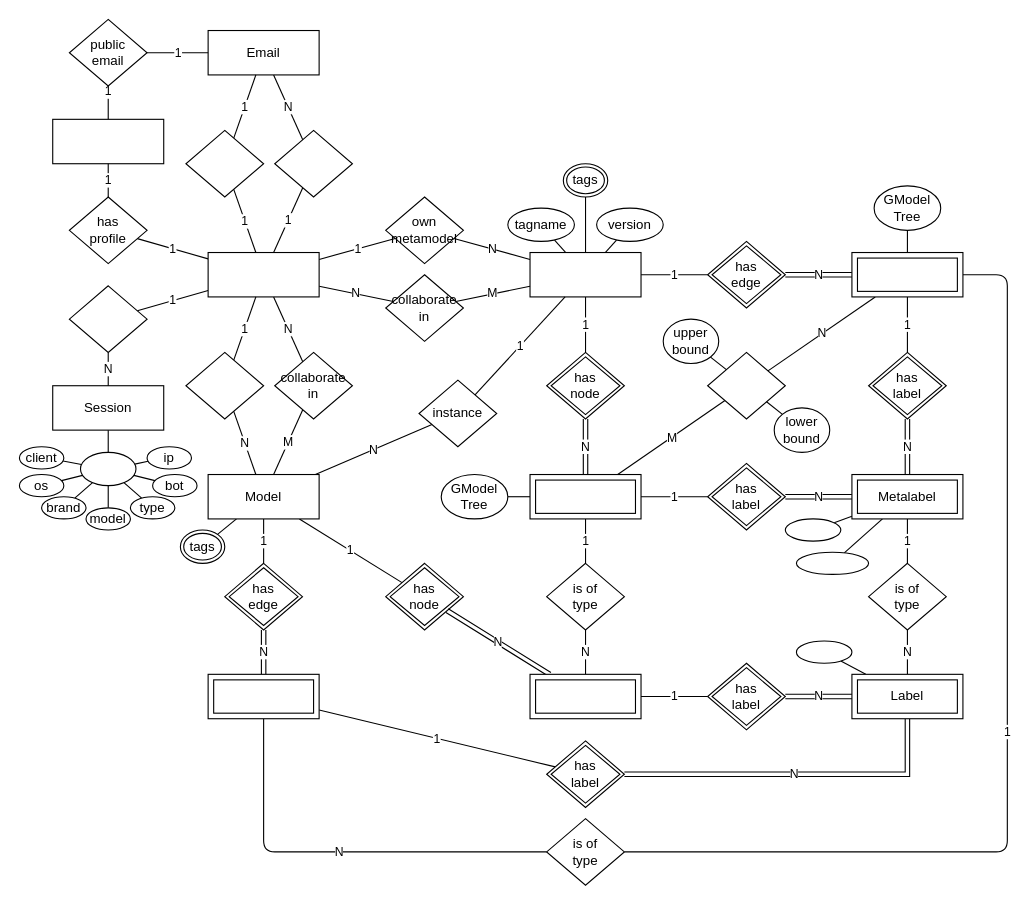
Some shapes in this 1030 by 905 pixel diagram are drawn without their labels. Here are the shapes that lost their labels. From the top down, the centre of each, then its label:
the point at 108,141: Profile
the point at 224,163: primary email
the point at 313,163: has email
the point at 263,274: User
the point at 585,274: Metamodel
the point at 907,274: Metaedge
the point at 107,318: has session
the point at 224,385: own model
the point at 746,385: constraint
the point at 107,468: device
the point at 585,496: Metanode
the point at 812,529: name
the point at 832,562: datatype
the point at 823,651: value
the point at 263,696: Edge
the point at 585,696: Node
